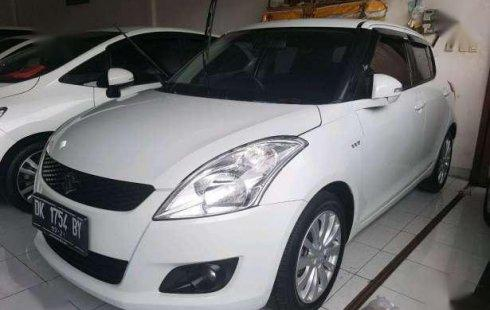plate: (32, 195, 85, 256)
